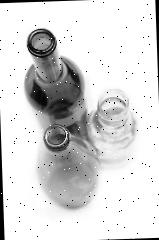glass: (22, 24, 140, 214)
